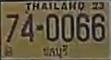0: (61, 13, 73, 41), (46, 13, 58, 41)
4: (20, 13, 33, 41)
6: (91, 12, 104, 40), (76, 13, 89, 41)
7: (6, 13, 19, 42)
CBI: (41, 43, 69, 58)
